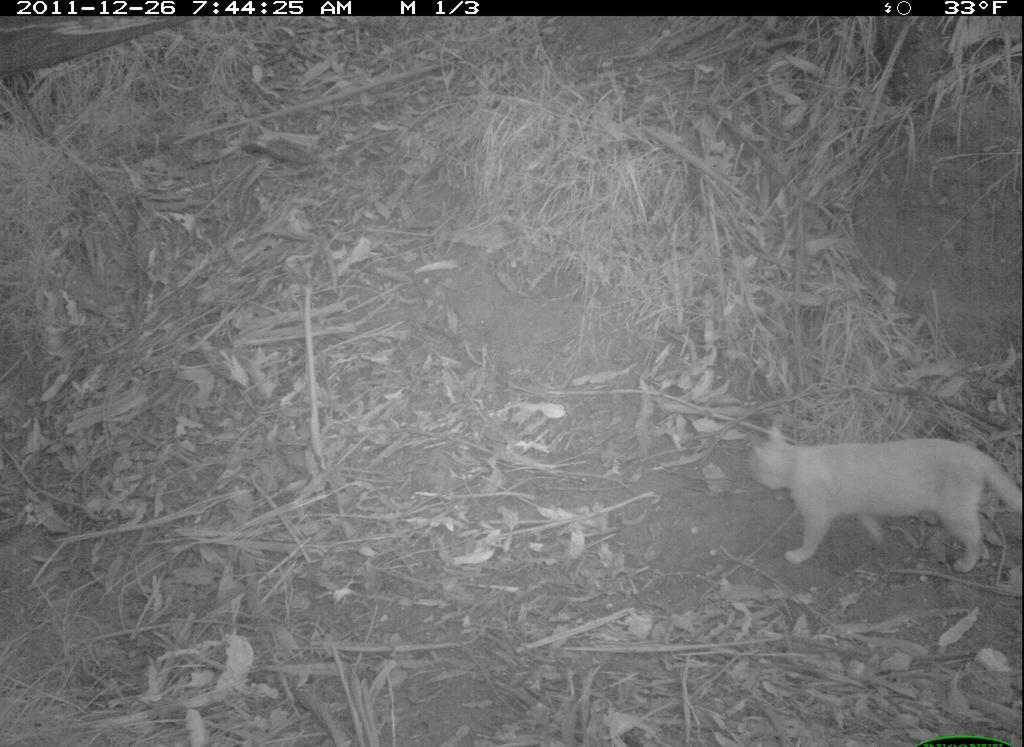cat: (744, 415, 1019, 583)
